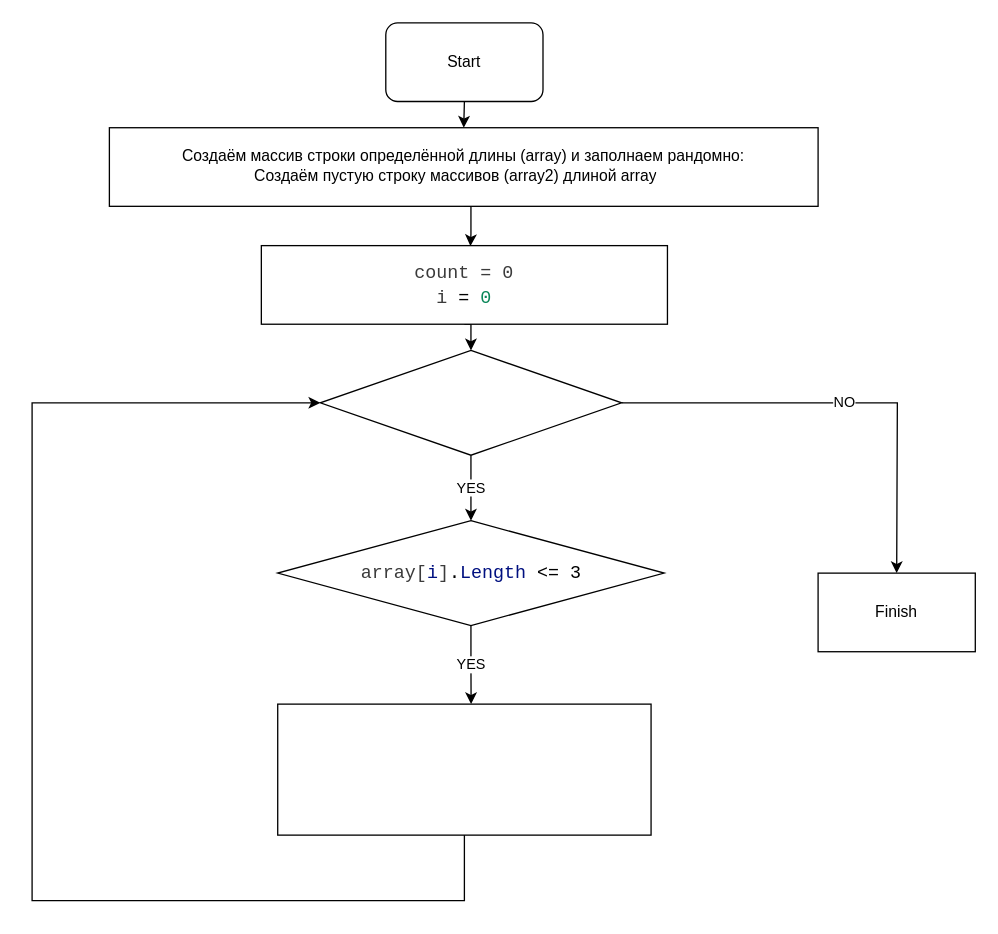
Image size: 998x934. Some labels were removed from this diagram. The box of each missing label's shape, as (x1, y1, x2, y2) in pixels:
array2[ count ] = array [ i ] Print array2 count++ i++: (276, 703, 651, 835)
i < array . Length: (319, 349, 622, 455)
